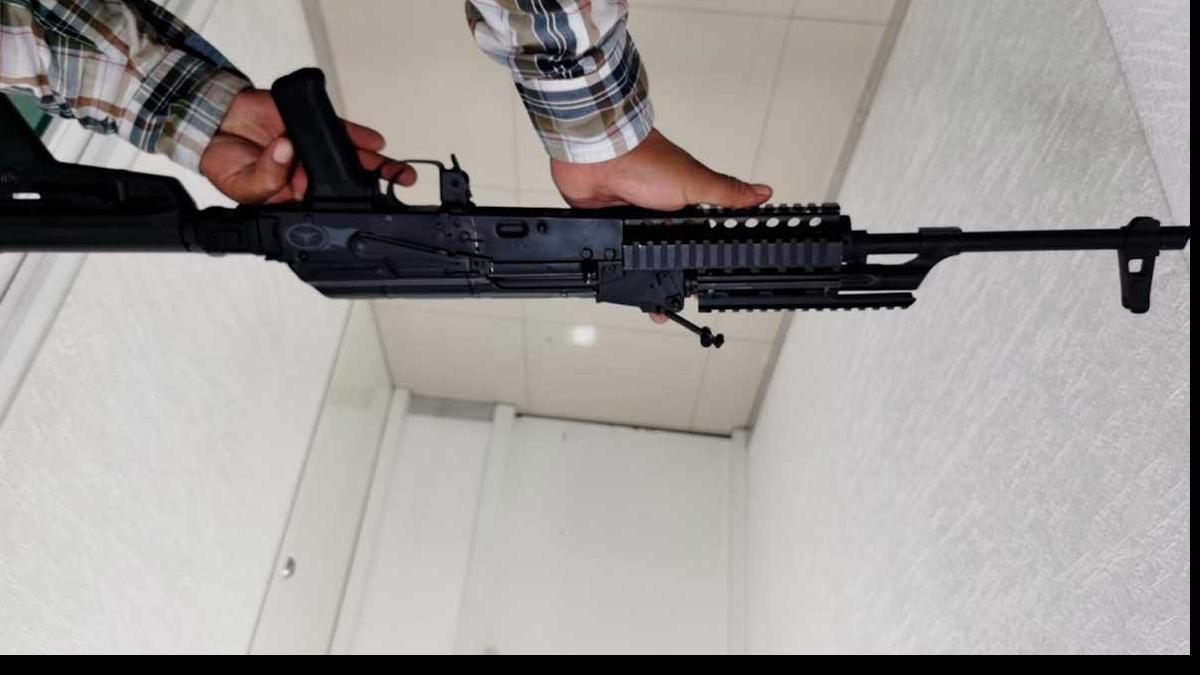larga: (0, 66, 1193, 352)
